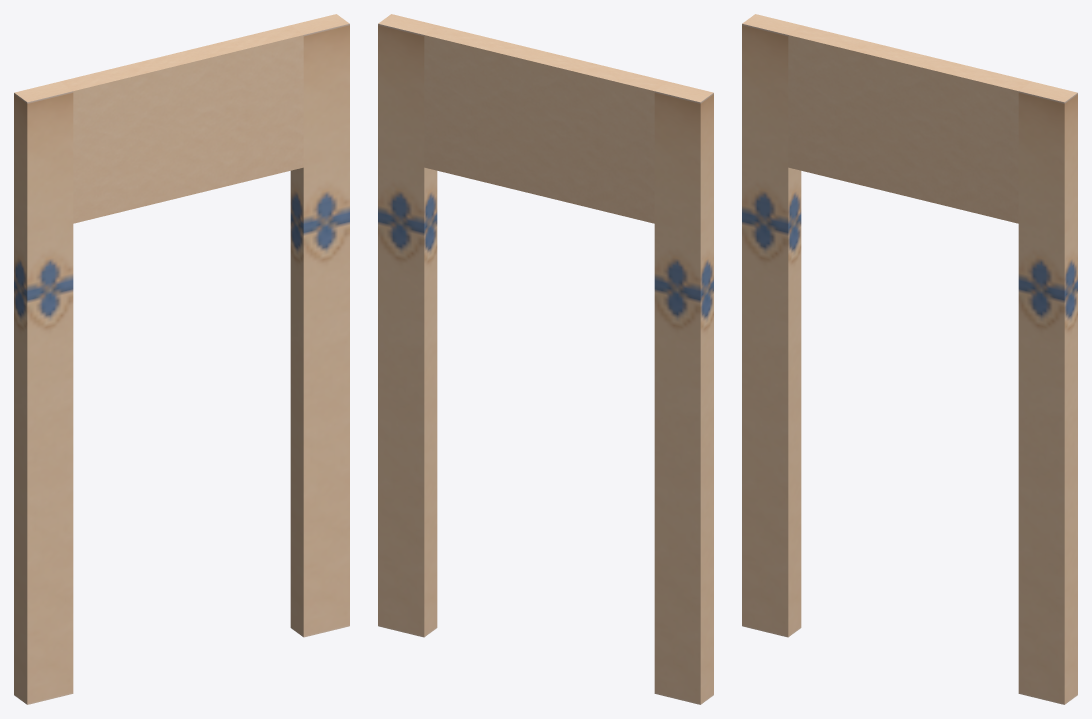
File: Wall_DoorOpening.fbx
3 views of the same model, side by side, from view 1: azimuth 30°, elevation 25°; view 2: azimuth 150°, elevation 25°; view 3: azimuth 330°, elevation 25° (orthographic).
Visible parts, largest first — view 1: Wall_DoorOpening; view 2: Wall_DoorOpening; view 3: Wall_DoorOpening.
Boxes of the visible parts, bbox=[...] form: Wall_DoorOpening: bbox=[14, 14, 349, 704]; Wall_DoorOpening: bbox=[378, 14, 713, 704]; Wall_DoorOpening: bbox=[742, 14, 1077, 704].
Size of the model in its own units: 1.4 by 2.5 by 0.1.
Materials: 1 (1 with a texture image).
